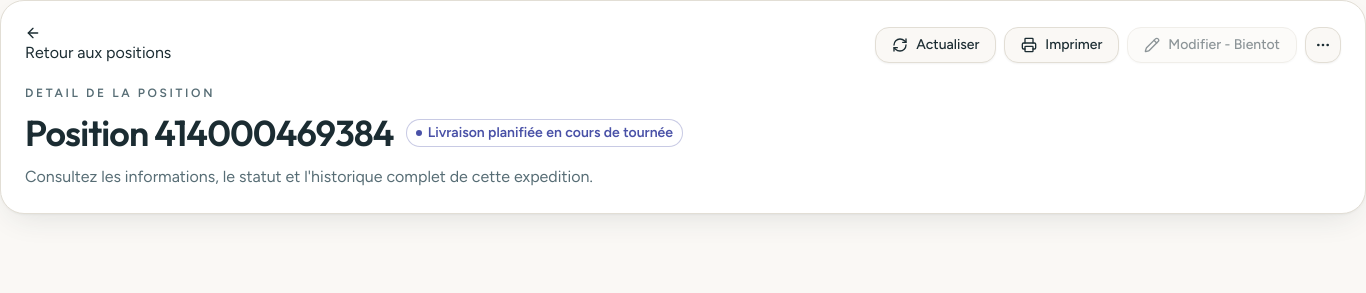
Scenario: ABM position detail UI › shows the four print actions in the header menu
The image size is (1366, 293).
Click the button "Imprimer" at (1062, 45), box [1004,27,1119,63]
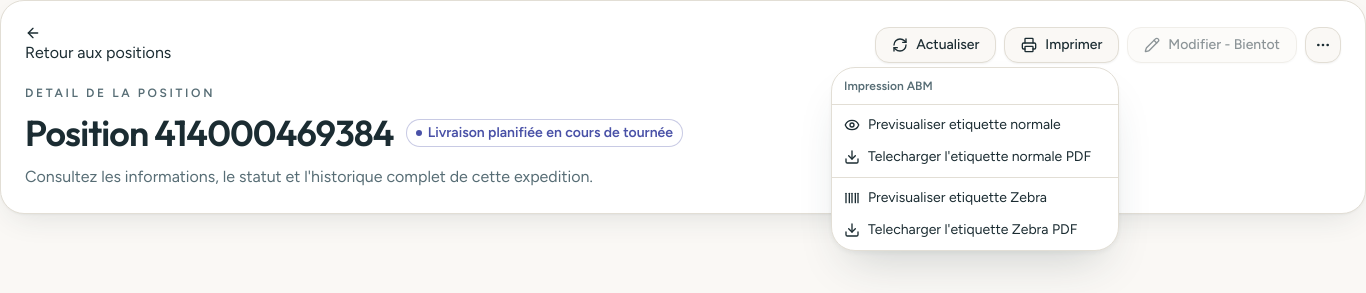
Result: the menu item "Previsualiser etiquette normale" is shown at [844,116,1061,133]
Result: the menu item "Telecharger l'etiquette normale PDF" is shown at [844,148,1091,165]
Result: the menu item "Previsualiser etiquette Zebra" is shown at [844,189,1047,206]
